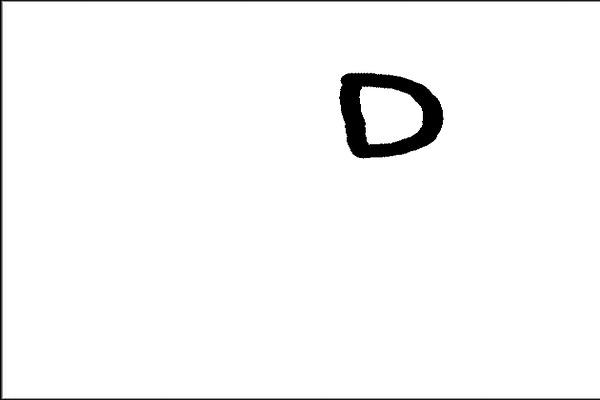D: (333, 65, 446, 162)
